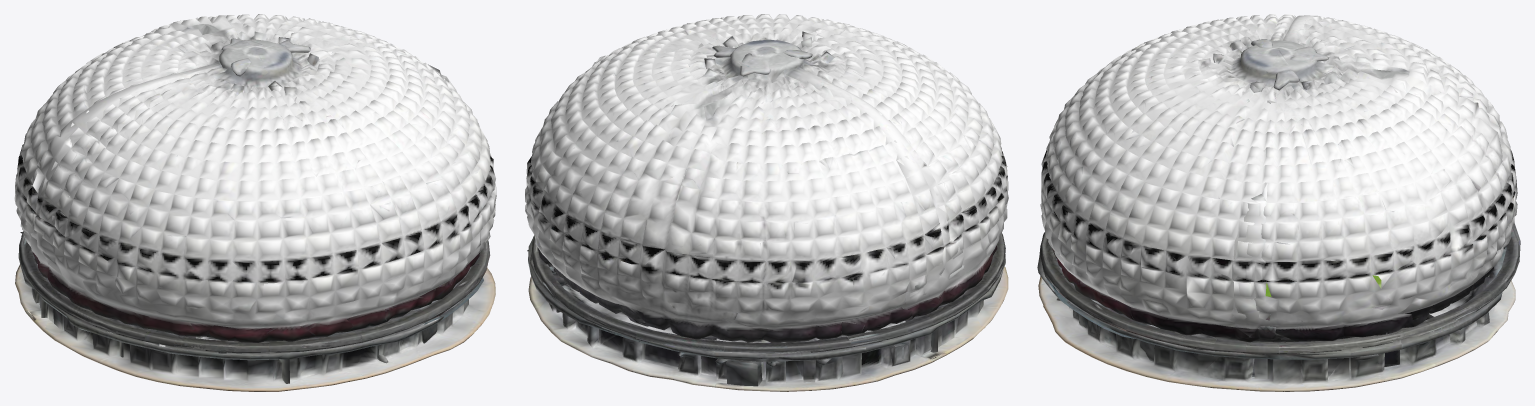
Rendered from tokyo_dome.glb.
3 renders of one model, left to right at view 1: azimuth 30°, elevation 25°; view 2: azimuth 150°, elevation 25°; view 3: azimuth 270°, elevation 25°, orthographic.
Bounding box in the file's own units: 1.9 × 1.06 × 1.91.
1 material, 1 textured.
